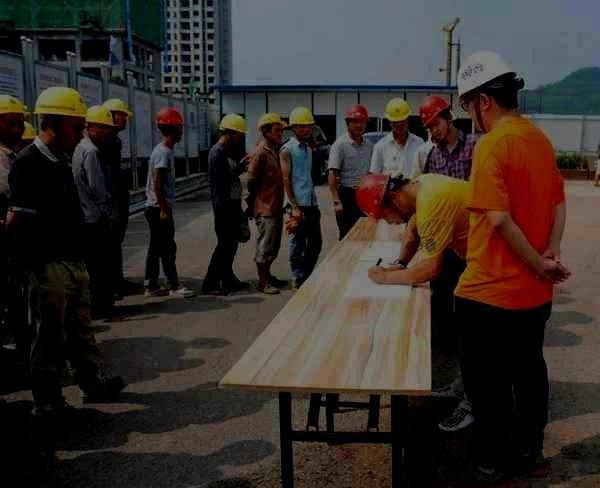helmet: (457, 51, 526, 130), (34, 87, 92, 150), (355, 171, 419, 226), (420, 95, 454, 139), (1, 94, 26, 146), (86, 106, 120, 142), (156, 107, 185, 142), (219, 113, 250, 145), (103, 98, 134, 130), (386, 97, 412, 134), (257, 113, 285, 144), (290, 107, 317, 139), (345, 104, 371, 137), (14, 121, 39, 152)
